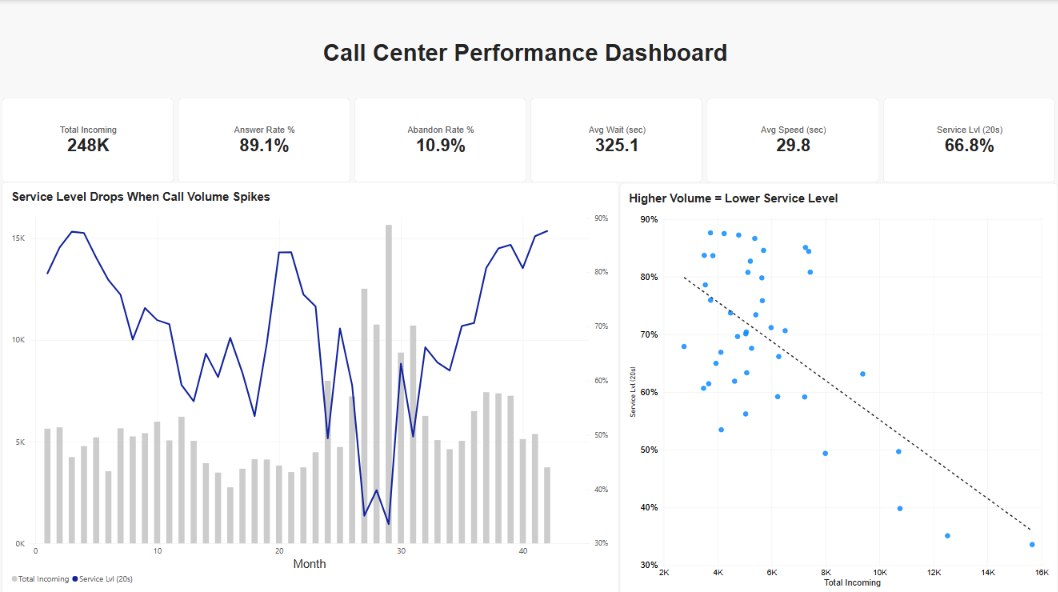

This screenshot's page, from the dashboard's own definition file:
{"tool":"powerbi","page":{"name":"Page 1","canvas":[1920,1080],"ordinal":0},"visuals":[{"type":"textbox","box":[9.2,71.2,1895.2,105.7],"z":0},{"type":"cardVisual","fields":{"Data":["clean_data.Total Incoming","clean_data.Answer Rate %","clean_data.Abandon Rate %","clean_data.Avg Wait (sec)","clean_data.Avg Answer Speed (sec)","clean_data.Service Level 20s %"]},"box":[9.2,176.9,1911.3,153.9],"z":1},{"type":"lineClusteredColumnComboChart","title":"Service Level Drops When Call Volume Spikes","fields":{"Category":["clean_data.Month #"],"Y":["clean_data.Total Incoming"],"Y2":["clean_data.Service Level 20s %"]},"box":[9.6,329,1117,749.8],"z":2},{"type":"scatterChart","title":"Higher Volume = Lower Service Level","fields":{"Category":["clean_data.Month #"],"X":["clean_data.Total Incoming"],"Y":["clean_data.Service Level 20s %"]},"box":[1127,331,793,748],"z":3}]}

Visuals, with their boxes in screenshot pixels (x1, y1, x2, y2), scaled from the page's 1920x1080 canvas onto the 1058x592 screenshot:
textbox: [x1=5, y1=39, x2=1049, y2=97]
cardVisual - clean_data.Total Incoming x clean_data.Answer Rate %: [x1=5, y1=97, x2=1057, y2=181]
"Service Level Drops When Call Volume Spikes" lineClusteredColumnComboChart: [x1=5, y1=180, x2=621, y2=591]
"Higher Volume = Lower Service Level" scatterChart: [x1=621, y1=181, x2=1057, y2=591]
